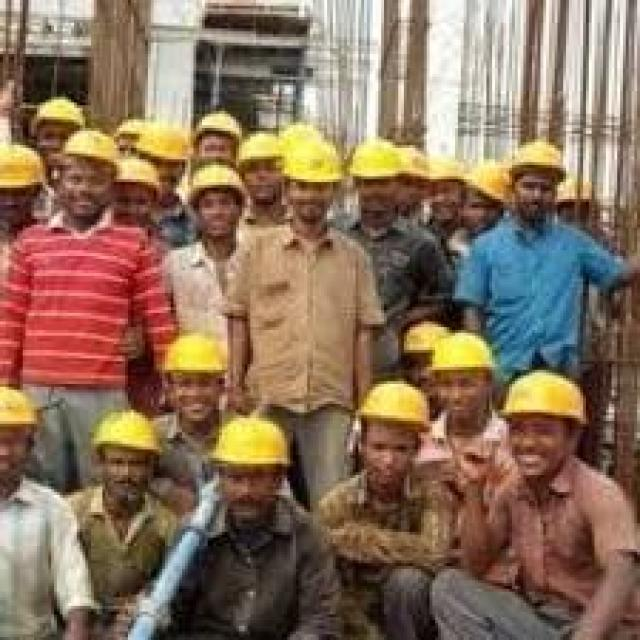Safety-Helmet: (492, 361, 606, 441), (196, 409, 304, 484), (410, 318, 509, 392), (338, 372, 441, 443), (82, 404, 174, 466), (341, 128, 421, 193), (154, 327, 236, 390), (495, 128, 580, 188), (276, 120, 347, 190), (108, 150, 174, 208), (176, 159, 256, 205), (1, 136, 54, 202), (57, 125, 125, 174), (1, 378, 51, 444), (23, 91, 94, 137), (233, 128, 290, 174), (188, 105, 247, 145)
